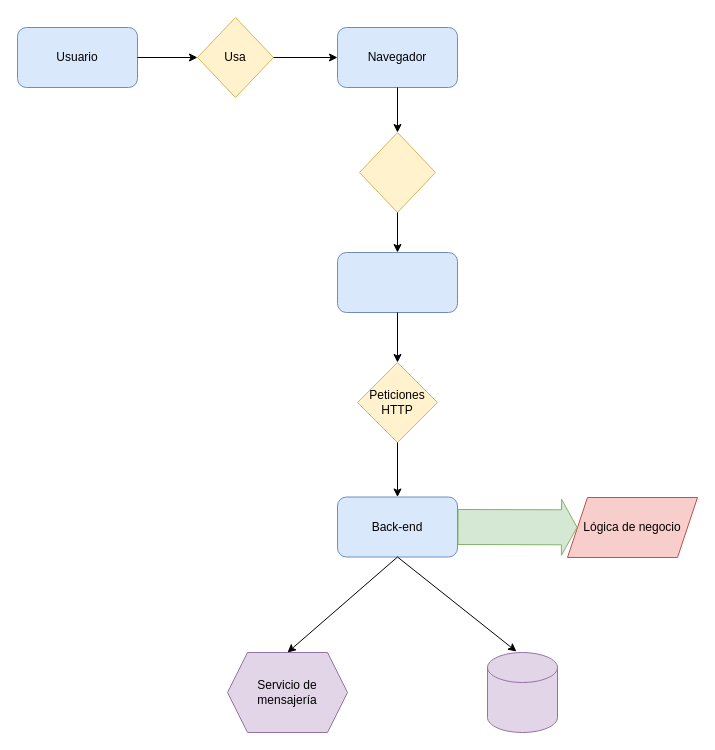
This 715x750 diagram has some shape labels left out. Here are the shapes that lost their labels. From the top down, the centre of each, then its label:
At pixel 397 172: "Ejecuta".
At pixel 397 282: "Front-end".
At pixel 522 692: "DB".
